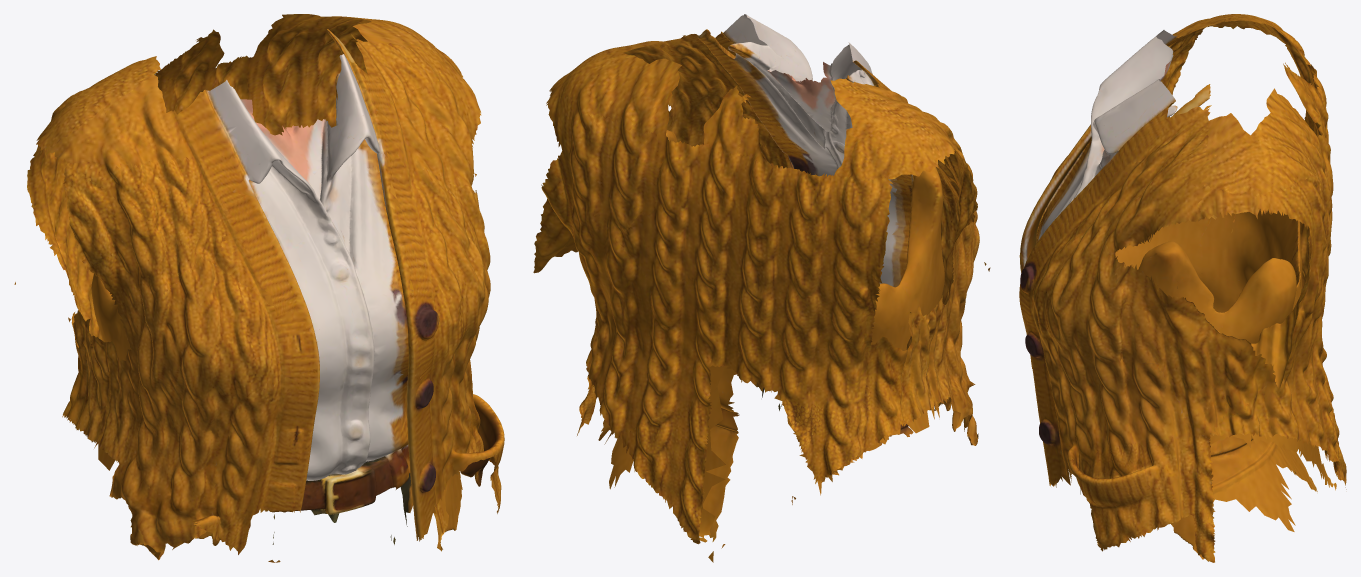
File: AbuelaTorso.obj
3 renders of one model, left to right at view 1: azimuth 30°, elevation 25°; view 2: azimuth 150°, elevation 25°; view 3: azimuth 270°, elevation 25°, orthographic. The views are drawn at different scales.
Parts seen in each view (by area): view 1: AbuelaTorso; view 2: AbuelaTorso; view 3: AbuelaTorso.
Part boxes in pixels (x1,y1,x2,y2): AbuelaTorso: (14, 14, 504, 562); AbuelaTorso: (533, 14, 990, 562); AbuelaTorso: (1019, 14, 1346, 562).
Bounding box in the file's own units: 0.3981 × 0.4403 × 0.2938.
Materials: 1 (1 with a texture image).
